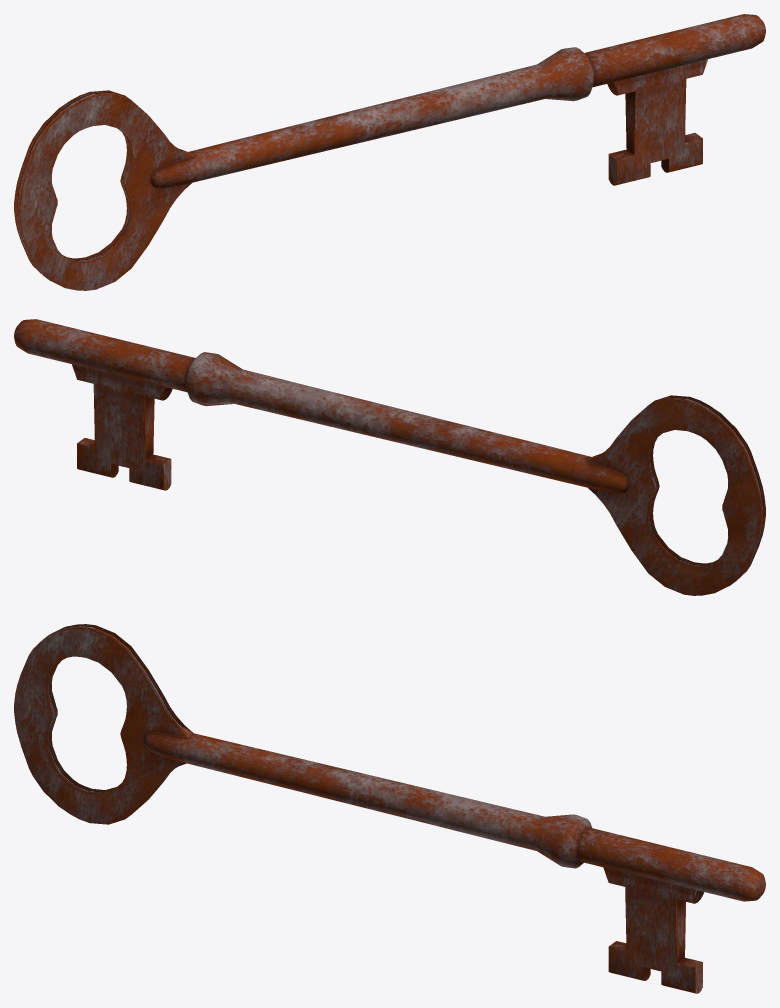
File: key_low.fbx
3 renders of one model, top to bottom at view 1: azimuth 30°, elevation 25°; view 2: azimuth 150°, elevation 25°; view 3: azimuth 330°, elevation 25°, orthographic.
Parts seen in each view (by area): view 1: key1_low; view 2: key1_low; view 3: key1_low.
Boxes of the visible parts, x1=… form: key1_low: x1=14, y1=14, x2=765, y2=290; key1_low: x1=14, y1=319, x2=765, y2=595; key1_low: x1=14, y1=624, x2=765, y2=993.
Bounding box in the file's own units: 19.23 × 5.36 × 1.21.
1 material, 1 textured.
